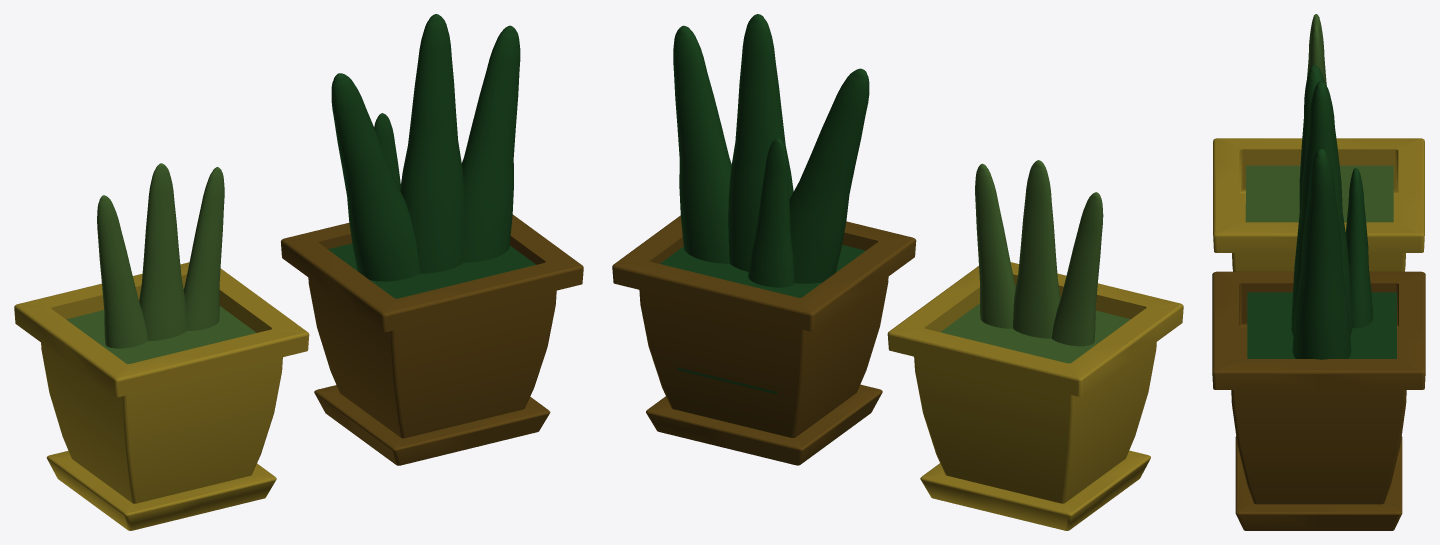
Rendered from stooky.fbx.
3 renders of one model, left to right at view 1: azimuth 30°, elevation 25°; view 2: azimuth 150°, elevation 25°; view 3: azimuth 270°, elevation 25°, orthographic. The views are drawn at different scales.
Visible parts, largest first — view 1: stooky_lv2_polySurface1_1, Cube; view 2: stooky_lv2_polySurface1_1, Cube; view 3: stooky_lv2_polySurface1_1, Cube.
Part boxes in pixels (left/top/right/bottom): stooky_lv2_polySurface1_1: left=281, top=14, right=583, bottom=465; Cube: left=14, top=163, right=309, bottom=530; stooky_lv2_polySurface1_1: left=612, top=14, right=916, bottom=465; Cube: left=887, top=160, right=1183, bottom=530; stooky_lv2_polySurface1_1: left=1212, top=65, right=1425, bottom=530; Cube: left=1213, top=14, right=1424, bottom=271.
Size of the model in its own units: 90.19 by 74.62 by 34.69.
